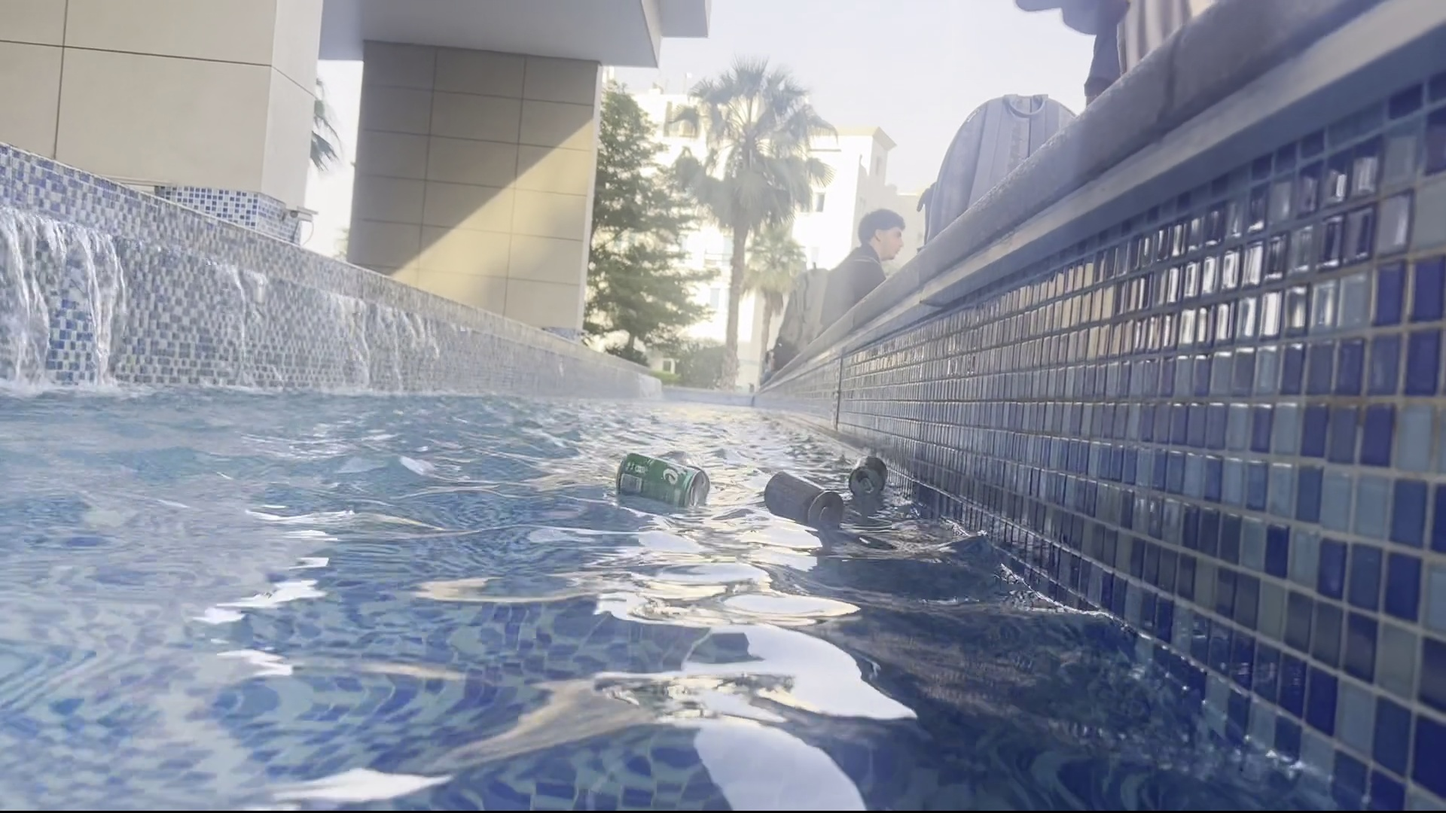debris: (612, 444, 708, 516), (758, 463, 850, 536), (840, 450, 891, 500)
